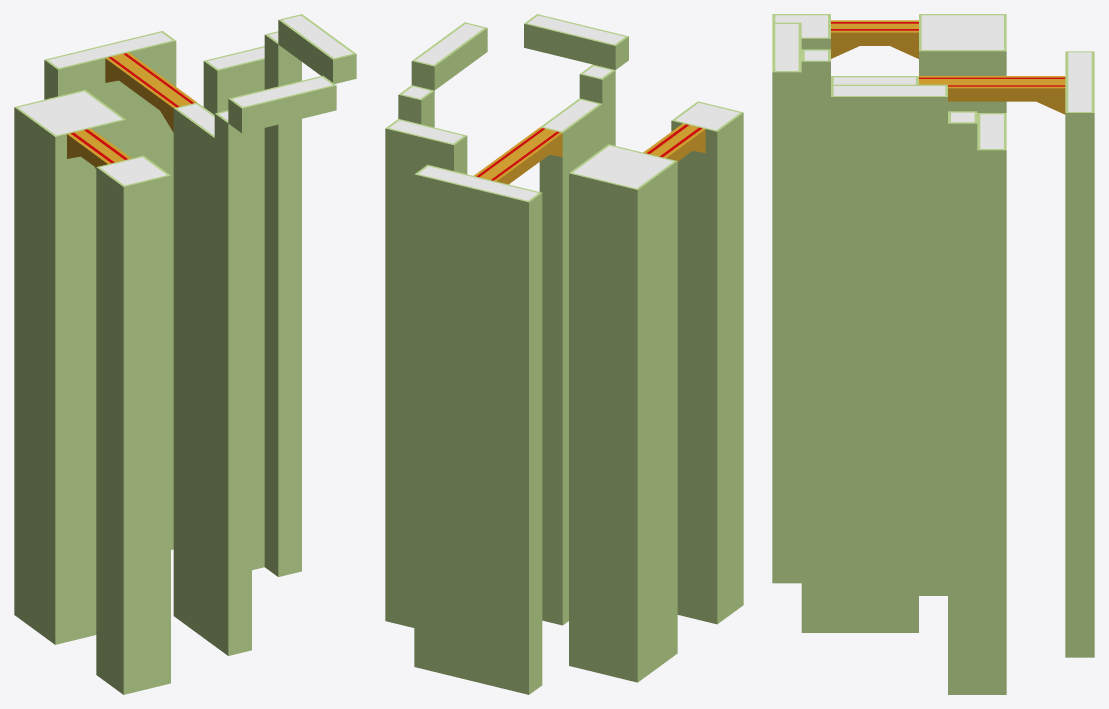
File: Stage2.fbx
3 renders of one model, left to right at view 1: azimuth 30°, elevation 25°; view 2: azimuth 150°, elevation 25°; view 3: azimuth 270°, elevation 25°, orthographic. The views are drawn at different scales.
Parts seen in each view (by area): view 1: Cube, Bridge1, Bridge2; view 2: Cube, Bridge1, Bridge2; view 3: Cube, Bridge1, Bridge2.
Boxes of the visible parts, x1,y1,x2,y2 form: Cube: (14,14,356,694); Bridge1: (105,52,196,132); Bridge2: (67,128,131,168); Cube: (385,14,743,694); Bridge1: (474,127,562,184); Bridge2: (643,123,705,162); Cube: (772,14,1094,694); Bridge1: (919,76,1065,114); Bridge2: (831,20,918,58).
Size of the model in its own units: 2200 by 4500 by 2200.
